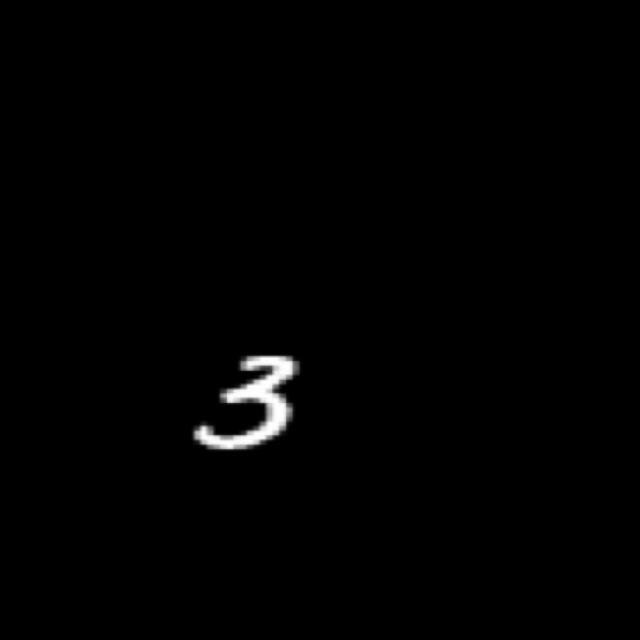three -3-: (174, 344, 317, 464)
